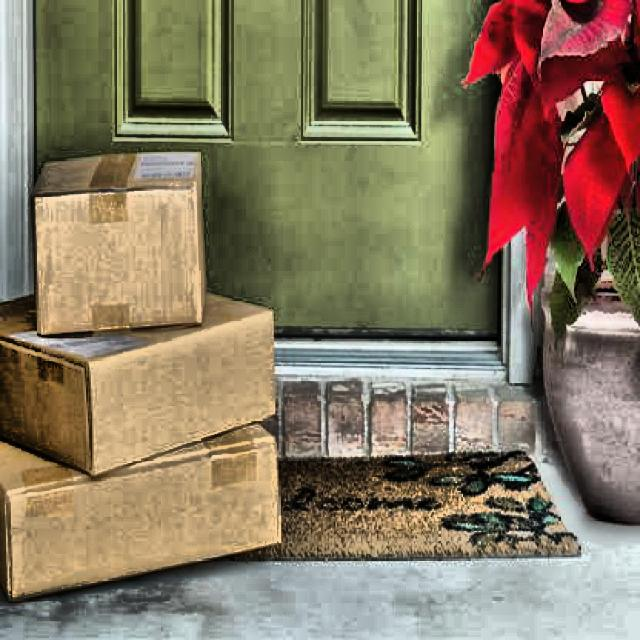Cardbox: (4, 306, 280, 605), (31, 154, 244, 342), (95, 304, 128, 332)
